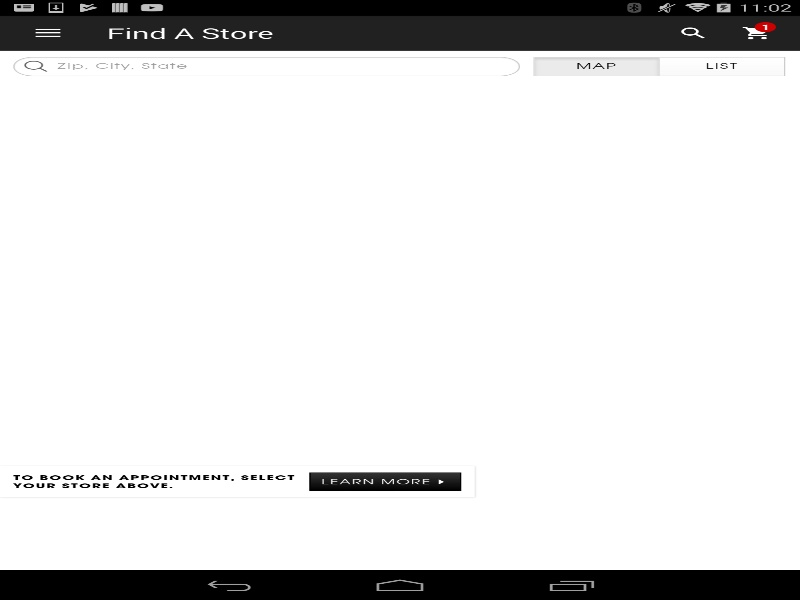Button: (309, 472, 462, 491), (10, 15, 85, 50), (533, 56, 660, 76), (658, 56, 785, 76)
Input: (13, 56, 520, 76)
